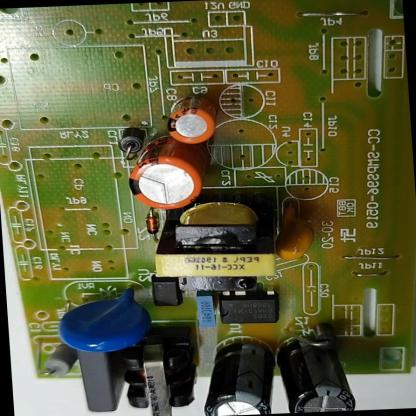Cap1: (120, 132, 206, 212)
Cap2: (162, 90, 221, 148)
Cap3: (197, 334, 283, 416)
Cap4: (277, 330, 358, 413)
MOSFET: (212, 286, 281, 328)
Mov: (52, 282, 154, 360)
Resistor: (38, 344, 78, 381)
Transformer: (145, 184, 282, 298), (113, 323, 199, 416)
